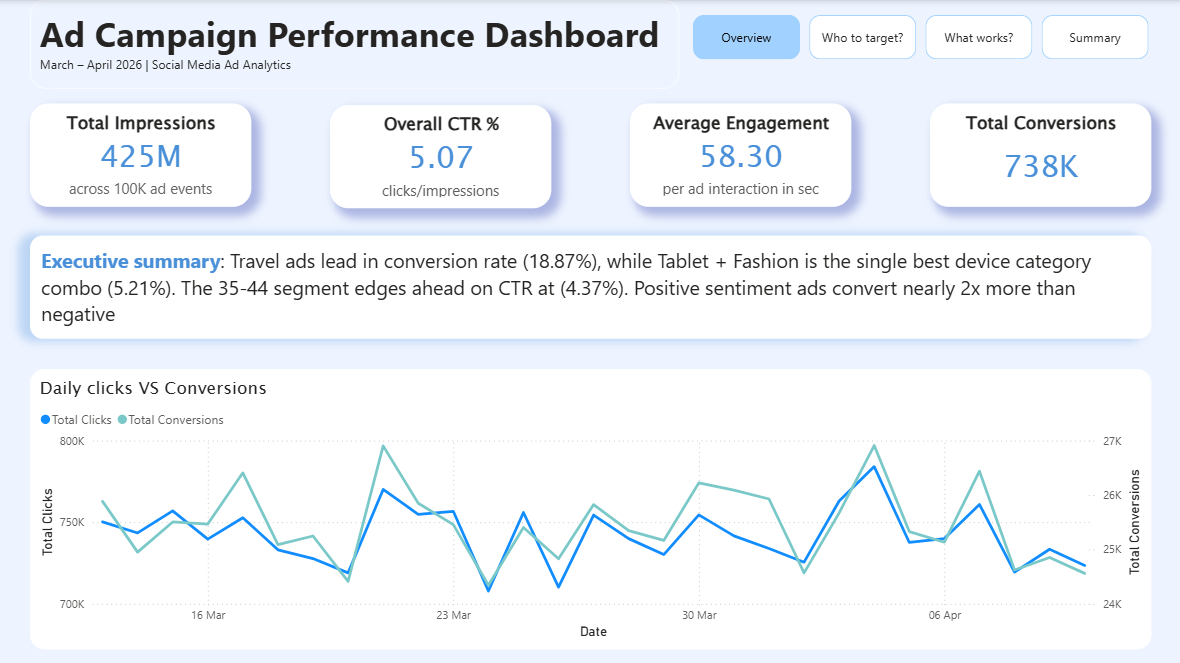

This screenshot's page, from the dashboard's own definition file:
{"tool":"powerbi","page":{"name":"Overview","canvas":[1280,720],"ordinal":0},"visuals":[{"type":"textbox","box":[32,256,1216,112],"z":0},{"type":"card","title":"Total Impressions","fields":{"Values":["Sum(vw_daily_summary1.total_impressions)"]},"box":[32,112,240,112],"z":1000},{"type":"card","title":"Overall CTR %","fields":{"Values":["Avg(vw_daily_summary1.ctr_pct)"]},"box":[357.3,113.6,240,112],"z":2000},{"type":"card","title":"Average Engagement","fields":{"Values":["Avg(vw_daily_summary1.avg_engagement_sec)"]},"box":[682.7,112,240,112],"z":3000},{"type":"card","title":"Total Conversions","fields":{"Values":["Sum(vw_daily_summary1.total_conversions)"]},"box":[1008,112,240,112],"z":4000},{"type":"lineChart","title":"Daily clicks VS Conversions","fields":{"Category":["vw_daily_summary1.interaction_date"],"Y":["Sum(vw_daily_summary1.total_clicks)"],"Y2":["Sum(vw_daily_summary1.total_conversions)"]},"box":[32,400,1216,304],"z":5000},{"type":"textbox","box":[32,0,704,96],"z":6000},{"type":"pageNavigator","box":[752,16,496,48],"z":7000}]}

Visuals, with their boxes in screenshot pixels (x1, y1, x2, y2), scaled from the page's 1280x720 canvas onto the 1180x663 screenshot:
textbox: left=30, top=236, right=1150, bottom=339
"Total Impressions" card: left=30, top=103, right=251, bottom=206
"Overall CTR %" card: left=329, top=105, right=551, bottom=208
"Average Engagement" card: left=629, top=103, right=851, bottom=206
"Total Conversions" card: left=929, top=103, right=1150, bottom=206
"Daily clicks VS Conversions" lineChart: left=30, top=368, right=1150, bottom=648
textbox: left=30, top=0, right=678, bottom=88
pageNavigator: left=693, top=15, right=1150, bottom=59
